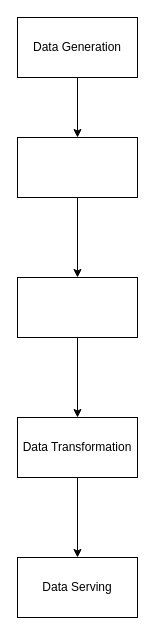
Some shapes in this 155 by 635 pixel diagram are drawn without their labels. The shapes that lost their labels are listed below. From the top down, each one's centre as x and y in pixels, then its label:
point (77, 167): Data Ingestion
point (77, 307): Data Storage
